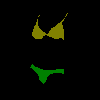mutande: (30, 63, 64, 84)
reggiseno: (32, 12, 68, 40)
